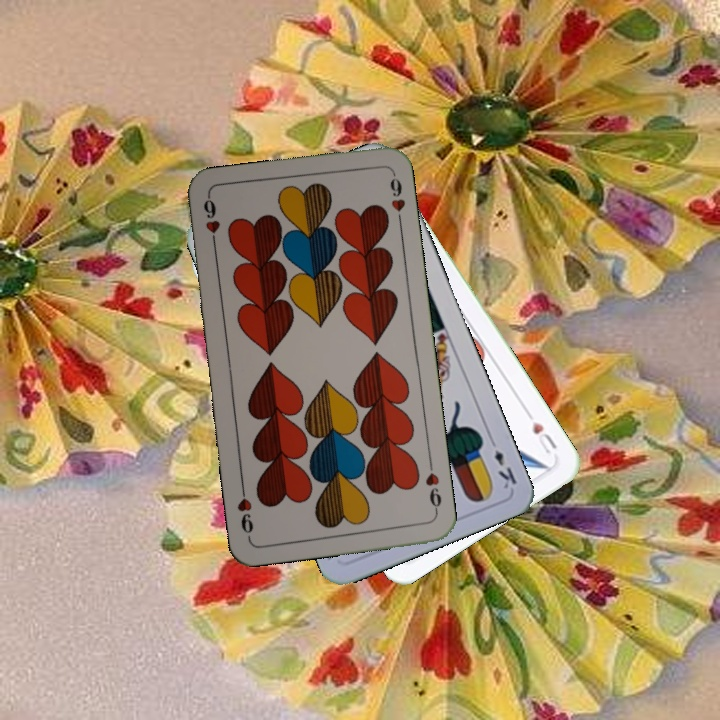EK: (485, 433, 520, 492)
H9: (199, 193, 223, 252), (421, 458, 444, 517)
HU: (528, 417, 560, 457)
